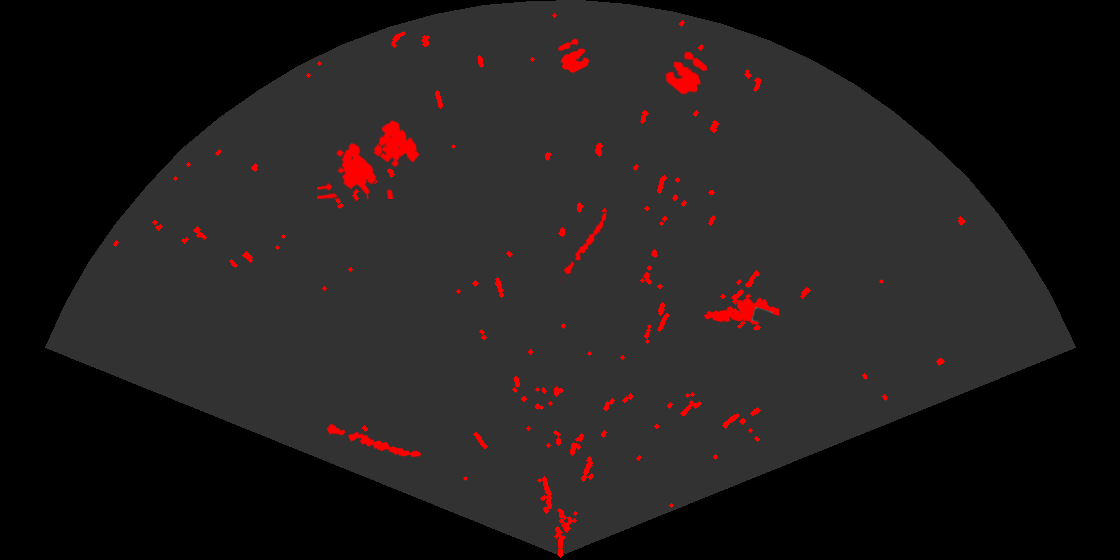ball: (664, 50, 709, 96), (556, 37, 591, 75)
cage: (317, 119, 421, 199)
chain: (558, 210, 609, 283), (324, 422, 423, 459)
frogman: (702, 292, 779, 326)
